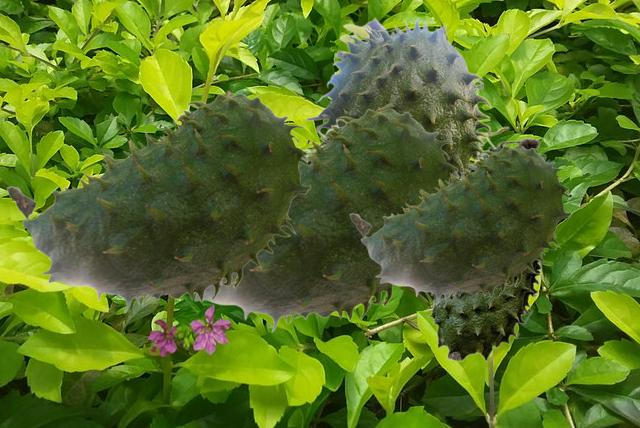guyabano: (6, 93, 311, 313), (193, 108, 459, 332), (349, 145, 571, 305), (305, 15, 509, 168), (426, 137, 547, 361)
